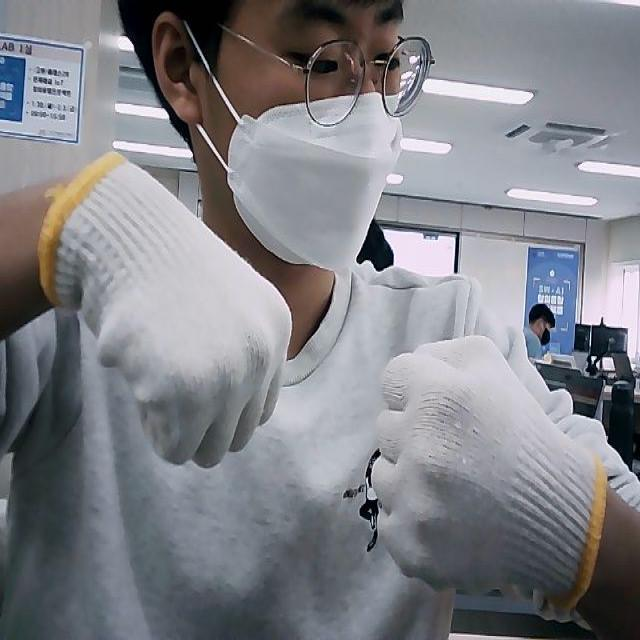gloves: (41, 152, 292, 468), (372, 335, 608, 612)
